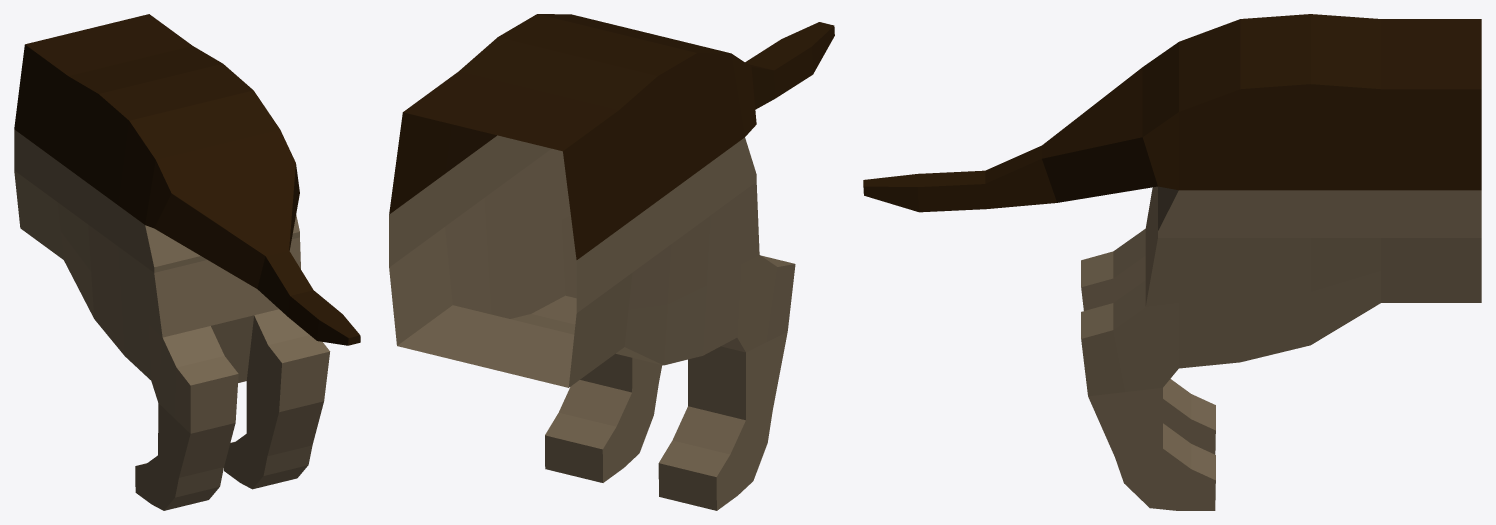
Rendered from WeinerBack.glb.
3 views of the same model, side by side, from view 1: azimuth 30°, elevation 25°; view 2: azimuth 150°, elevation 25°; view 3: azimuth 270°, elevation 25° (orthographic). The views are drawn at different scales.
Visible parts, largest first — view 1: WeinerMiddle; view 2: WeinerMiddle; view 3: WeinerMiddle.
Part boxes in pixels (x1,y1,x2,y2): WeinerMiddle: (14,14,360,510); WeinerMiddle: (389,14,834,510); WeinerMiddle: (863,14,1481,510).
Bounding box in the file's own units: 0.4251 × 1.02 × 1.35.
